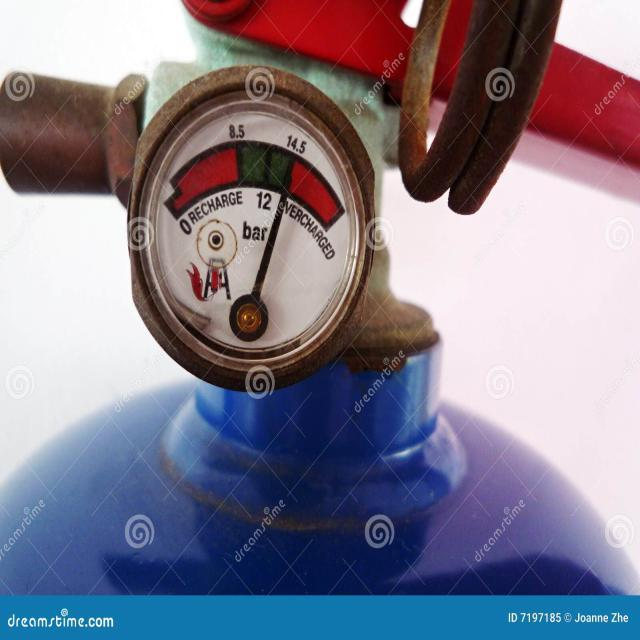pressure gauge: (128, 66, 373, 392)
